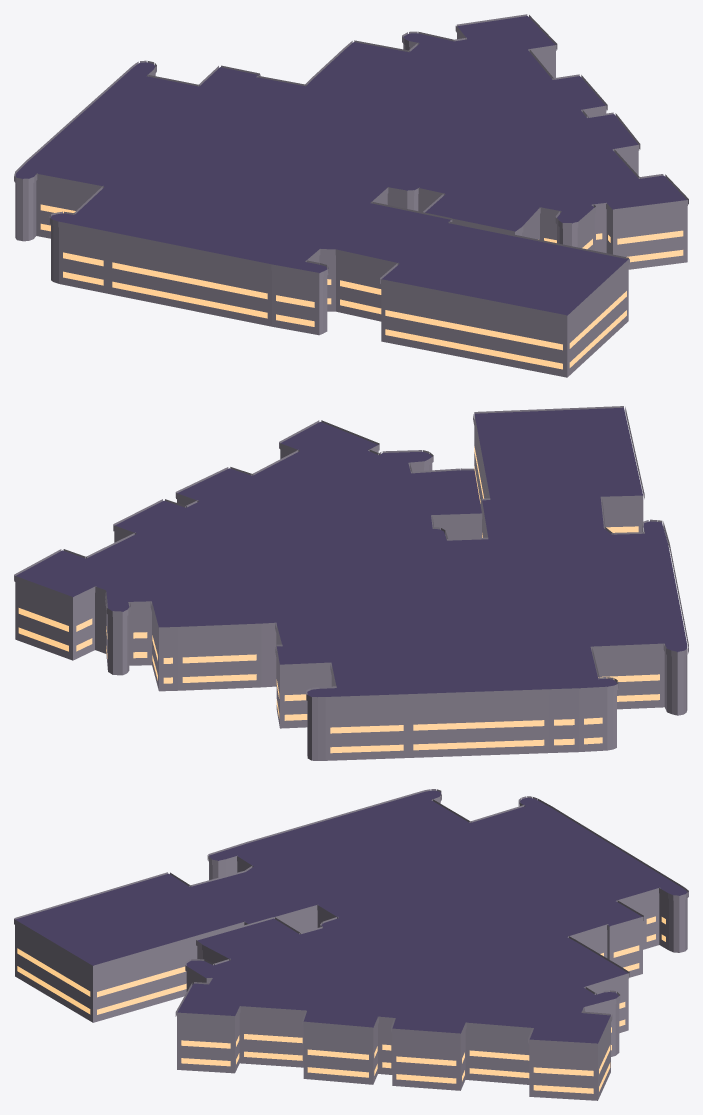
File: core-weldon-library.glb
3 views of the same model, one above another, from view 1: azimuth 30°, elevation 25°; view 2: azimuth 150°, elevation 25°; view 3: azimuth 270°, elevation 25° (orthographic). The views are drawn at different scales.
Visible parts, largest first — view 1: campus/core-weldon-library-0; view 2: campus/core-weldon-library-0; view 3: campus/core-weldon-library-0.
Boxes of the visible parts, <box> form: campus/core-weldon-library-0: <box>14,14,688,377</box>; campus/core-weldon-library-0: <box>14,406,688,760</box>; campus/core-weldon-library-0: <box>14,789,688,1100</box>.
Size of the model in its own units: 111 by 11.8 by 125.
